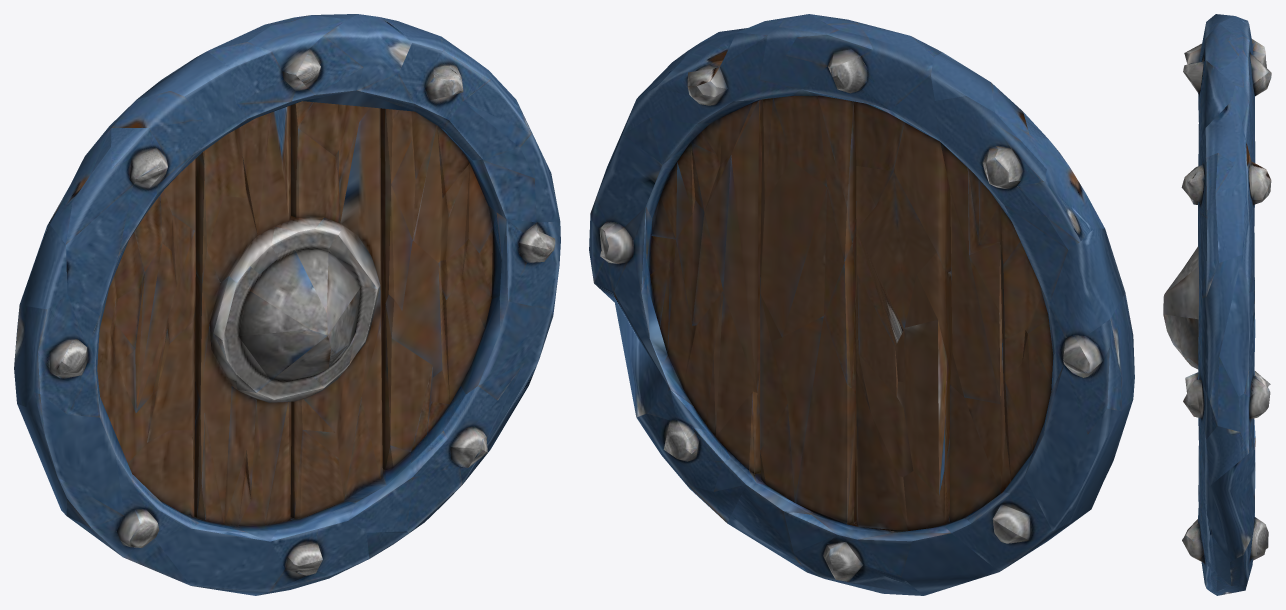
Rendered from minion_buckler.glb.
3 views of the same model, side by side, from view 1: azimuth 30°, elevation 25°; view 2: azimuth 150°, elevation 25°; view 3: azimuth 270°, elevation 25° (orthographic). The views are drawn at different scales.
Size of the model in its own units: 0.7908 by 0.7945 by 0.1475.
1 material, 1 textured.
